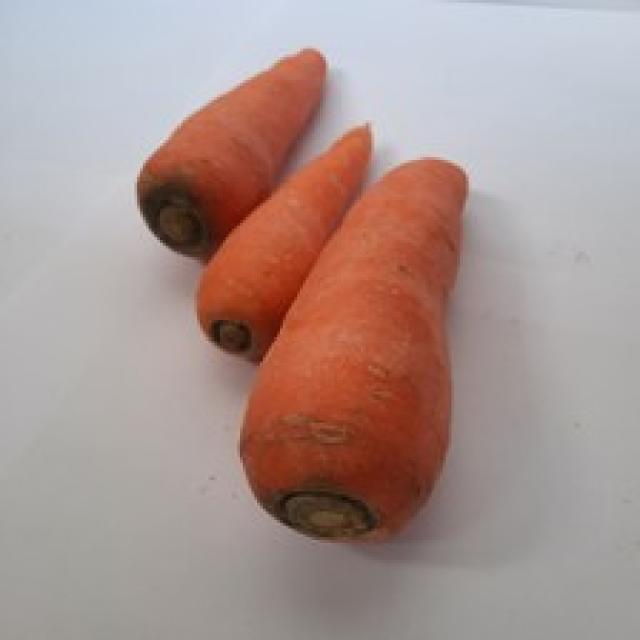Fresh_Carrot: (109, 46, 495, 534)
